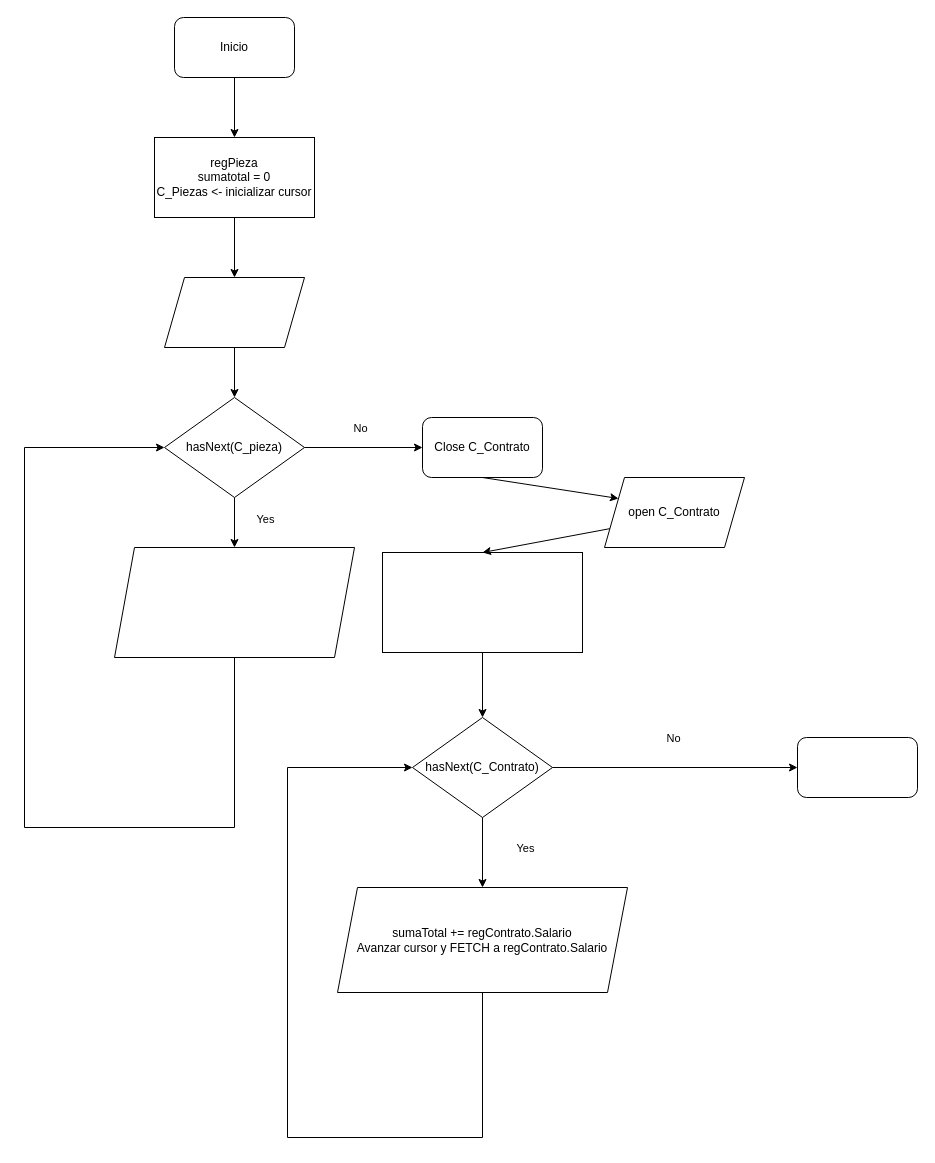
The diagram is 935 pixels wide and 1163 high, and some of its shapes have lost their labels. Here are the shapes that lost their labels. From the top down, the centre of each, then its label:
the point at 234,312: open C_Pîeza
the point at 234,602: suma = suma + regPieza.Precio Avanzar cursor y FETCH a regPiezas
the point at 482,602: regContrato C_Contrato <- inicializar cursor
the point at 857,767: Close C_Contrato Return sumaTotal
